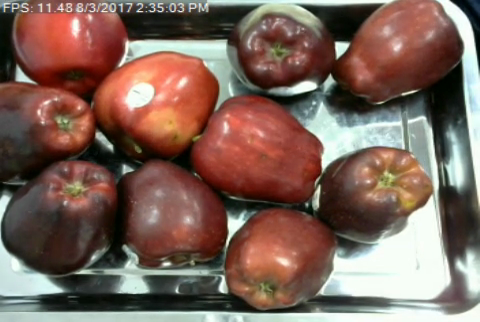Apple: (188, 92, 326, 205), (0, 158, 123, 279), (90, 49, 224, 158), (328, 0, 467, 105), (111, 154, 232, 270), (310, 141, 438, 246), (220, 206, 340, 313), (8, 0, 131, 94), (224, 0, 338, 98), (0, 76, 97, 175)
